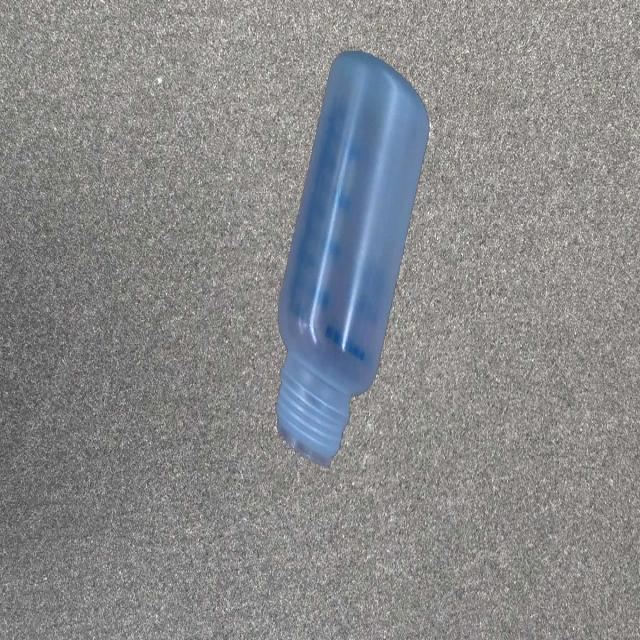bottle: (276, 49, 430, 468)
